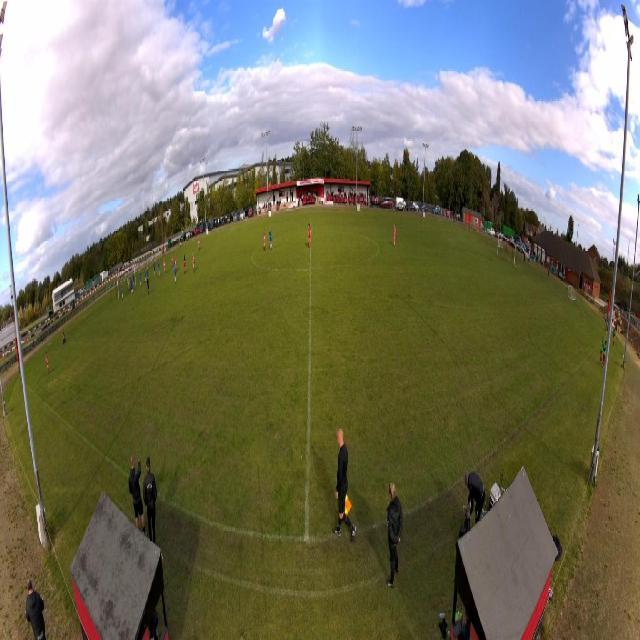ball: (49, 369, 50, 373)
player: (45, 351, 50, 373), (308, 223, 312, 250), (173, 260, 177, 285), (269, 228, 273, 252), (146, 274, 150, 298), (263, 228, 266, 253), (393, 223, 396, 247), (130, 278, 134, 294), (192, 252, 195, 273), (183, 254, 186, 275), (163, 256, 166, 275), (174, 255, 177, 273), (158, 261, 161, 279), (139, 271, 142, 289), (121, 281, 124, 299), (153, 261, 156, 278), (144, 266, 147, 283), (132, 272, 135, 289), (146, 268, 149, 283), (171, 253, 173, 270), (128, 276, 130, 293), (127, 276, 129, 293), (198, 236, 200, 252)
